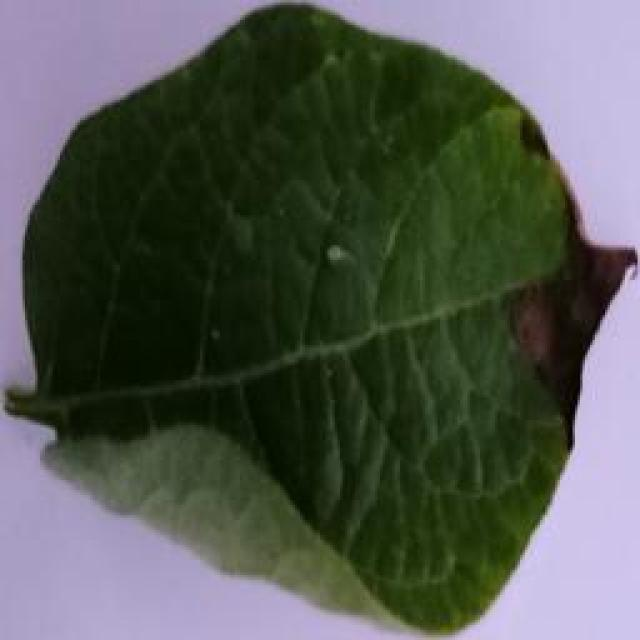Potato_Late_Blight: (5, 9, 618, 628)
